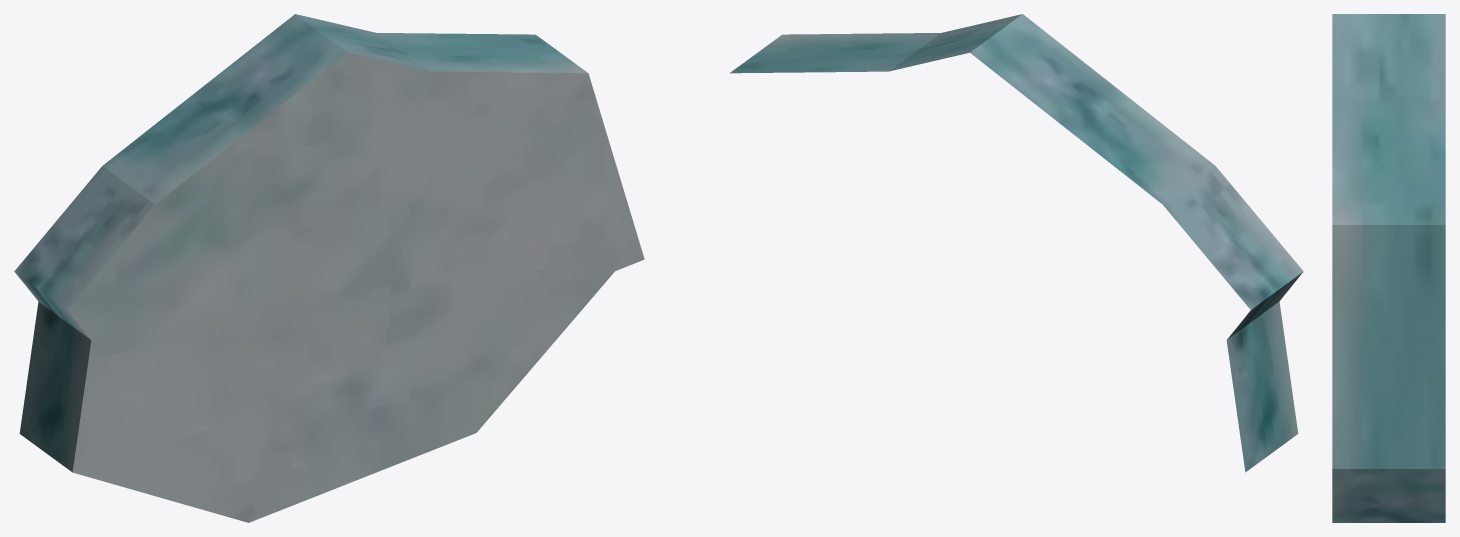
3 views of the same model, side by side, from view 1: azimuth 30°, elevation 25°; view 2: azimuth 150°, elevation 25°; view 3: azimuth 270°, elevation 25° (orthographic). The views are drawn at different scales.
Visible parts, largest first — view 1: model_Object08; view 2: model_Object08; view 3: model_Object08.
Part boxes in pixels (left/top/right/bottom): model_Object08: left=14, top=14, right=644, bottom=522; model_Object08: left=730, top=14, right=1303, bottom=472; model_Object08: left=1332, top=14, right=1445, bottom=522.
Size of the model in its own units: 1.81 by 1.34 by 0.2874.
Materials: 1 (1 with a texture image).
